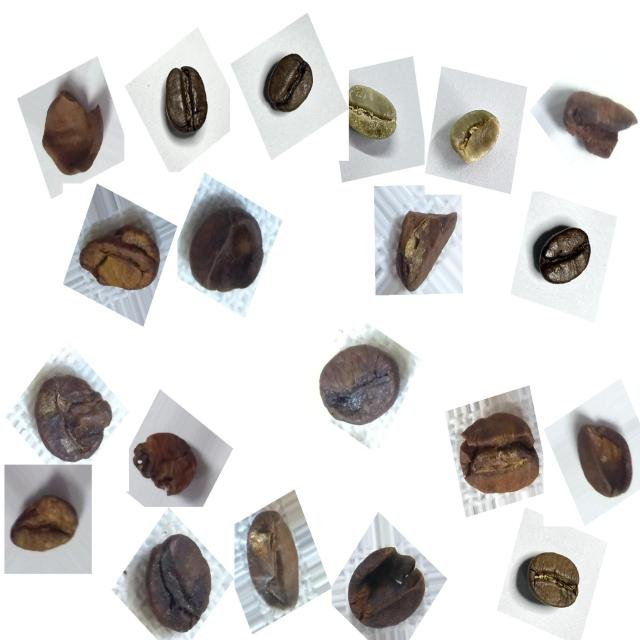bad: (451, 394, 547, 508), (133, 524, 222, 636), (338, 530, 432, 636), (179, 190, 268, 301), (21, 362, 114, 468), (74, 198, 168, 302), (310, 329, 406, 430), (32, 75, 116, 189), (4, 462, 90, 572), (239, 499, 313, 615), (384, 193, 463, 301), (551, 79, 635, 174), (562, 403, 636, 508), (133, 422, 212, 510)
dark: (151, 52, 222, 146), (529, 214, 603, 301), (255, 39, 324, 124)
green: (336, 72, 410, 157), (438, 95, 510, 176)
medium: (519, 540, 591, 618)
